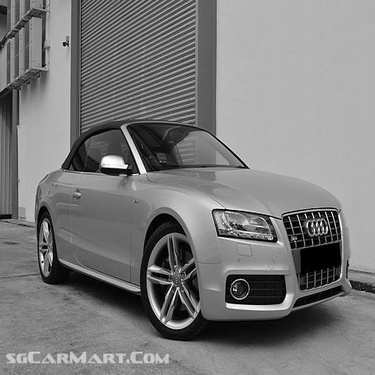car: (22, 113, 361, 340)
